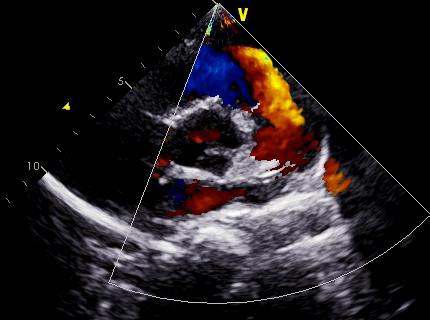PR: (246, 67, 308, 127)
